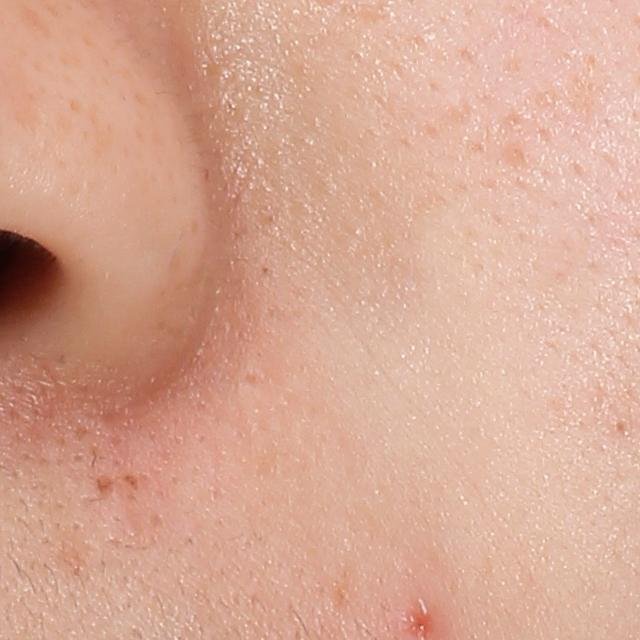atrophic_scar: (95, 474, 114, 497), (124, 474, 143, 490)
comedo: (609, 417, 628, 435)
